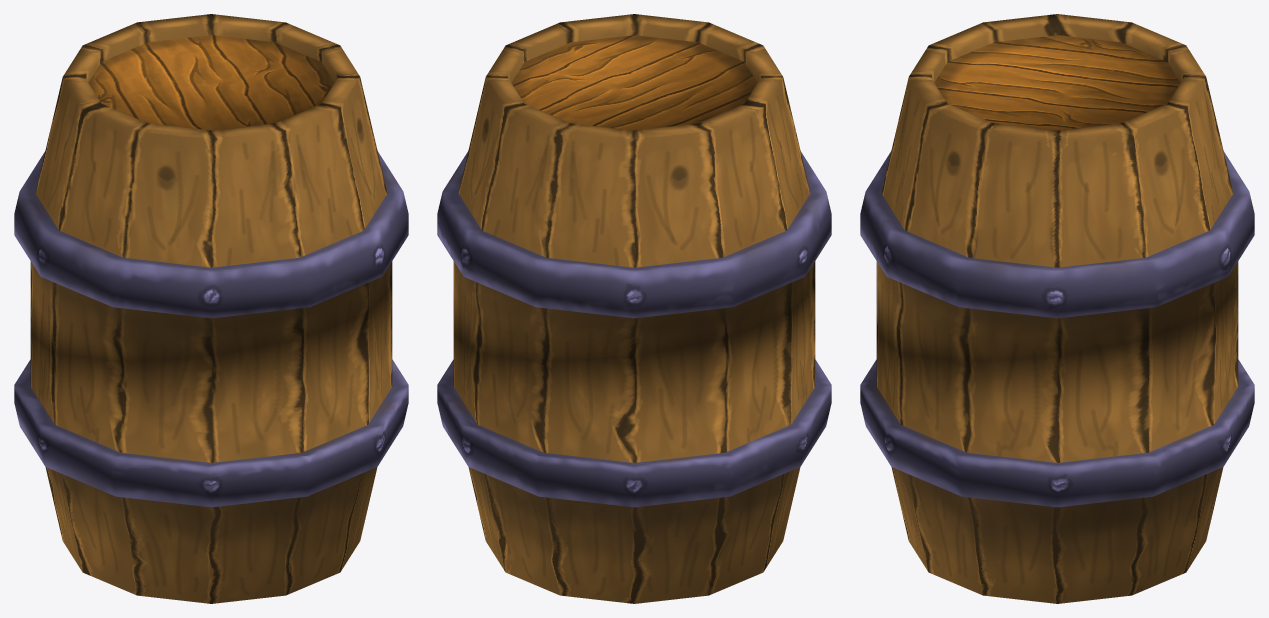
The model's file is barile.fbx.
3 views of the same model, side by side, from view 1: azimuth 30°, elevation 25°; view 2: azimuth 150°, elevation 25°; view 3: azimuth 270°, elevation 25° (orthographic).
Visible parts, largest first — view 1: Cylinder; view 2: Cylinder; view 3: Cylinder.
Boxes of the visible parts, left/top/right/bottom form: Cylinder: left=14, top=14, right=408, bottom=603; Cylinder: left=437, top=14, right=831, bottom=603; Cylinder: left=860, top=14, right=1254, bottom=603.
Size of the model in its own units: 154 by 200 by 154.
